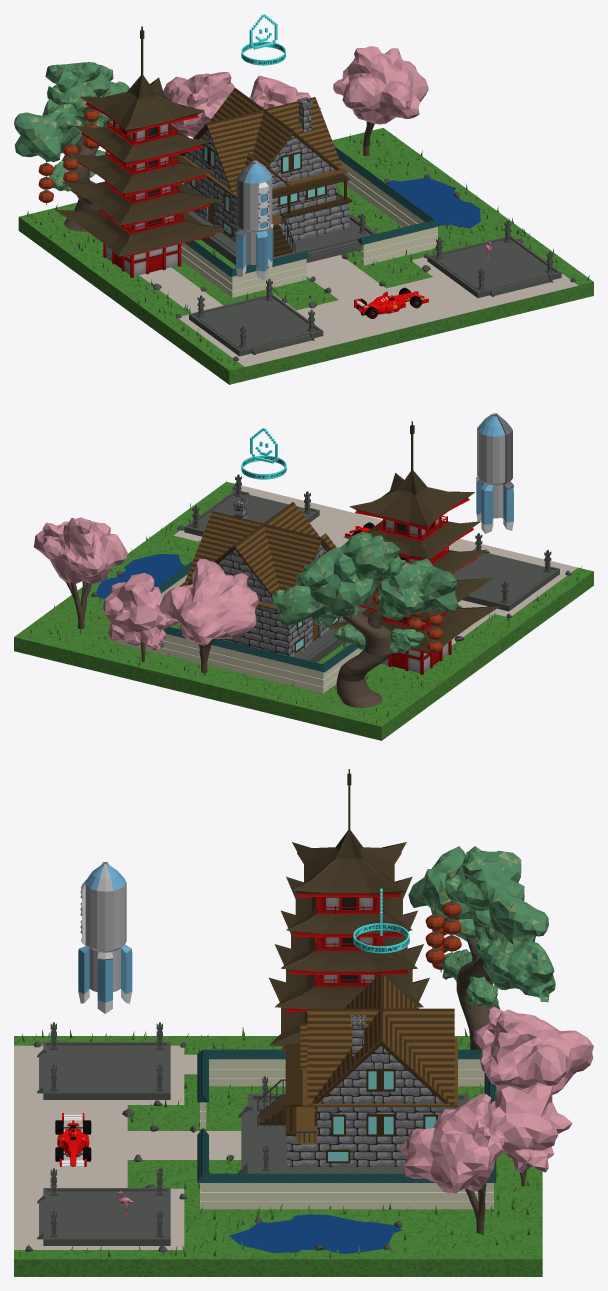
The picture shows the model from 3 angles, top to bottom: view 1: azimuth 30°, elevation 25°; view 2: azimuth 150°, elevation 25°; view 3: azimuth 270°, elevation 25°; orthographic projection. The views are drawn at different scales.
Parts seen in each view (by area): view 1: Cube.005, Cube.586, OBJRANDOM_ROCKETSHIP, VEHICLES_FORMULA_1, TYPE_PREMIUM; view 2: Cube.005, Cube.586, OBJRANDOM_ROCKETSHIP, TYPE_PREMIUM; view 3: Cube.005, Cube.586, OBJRANDOM_ROCKETSHIP, VEHICLES_FORMULA_1, TYPE_PREMIUM.
Boxes of the visible parts, x1,y1,x2,y2 form: Cube.005: [14, 26, 593, 384]; Cube.586: [178, 88, 352, 256]; OBJRANDOM_ROCKETSHIP: [235, 160, 273, 280]; VEHICLES_FORMULA_1: [354, 287, 428, 318]; TYPE_PREMIUM: [241, 14, 285, 65]; Cube.005: [14, 421, 593, 740]; Cube.586: [180, 498, 344, 656]; OBJRANDOM_ROCKETSHIP: [476, 413, 514, 533]; TYPE_PREMIUM: [241, 428, 286, 479]; Cube.005: [14, 769, 593, 1276]; Cube.586: [257, 973, 457, 1166]; OBJRANDOM_ROCKETSHIP: [78, 862, 132, 1013]; VEHICLES_FORMULA_1: [55, 1113, 91, 1166]; TYPE_PREMIUM: [353, 888, 409, 953].
Size of the model in its own units: 4528 by 2690 by 4389.
43 materials, 7 textured.
